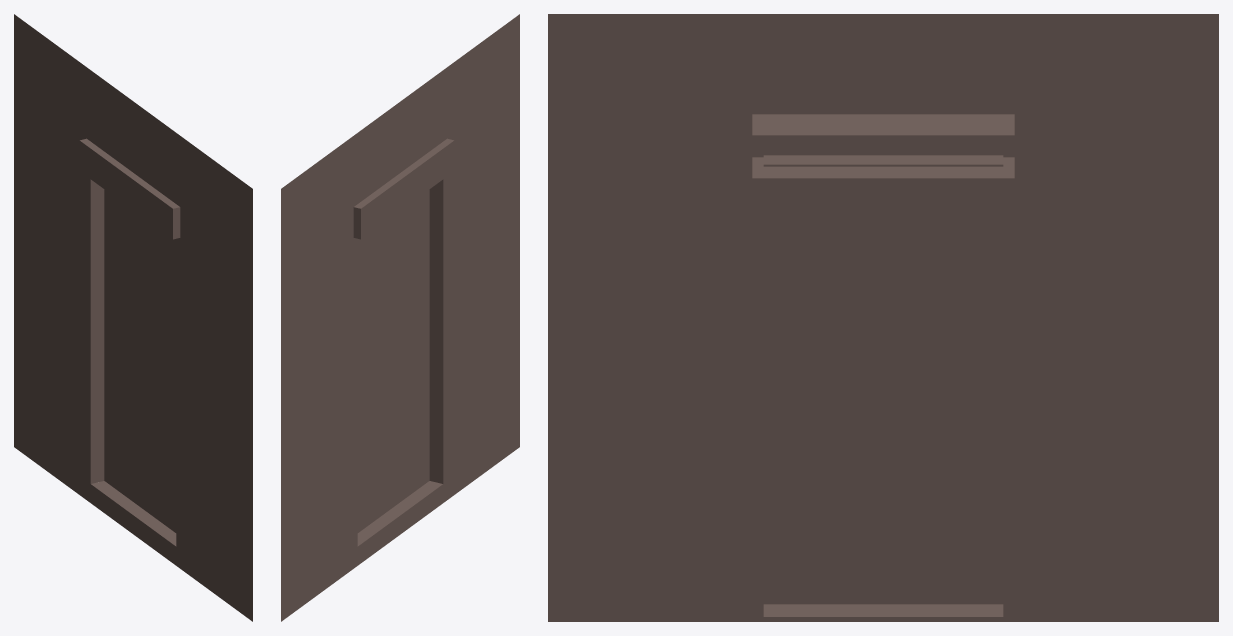
File: Building_door_01.fbx
The picture shows the model from 3 angles, left to right: view 1: azimuth 30°, elevation 25°; view 2: azimuth 150°, elevation 25°; view 3: azimuth 270°, elevation 25°; orthographic projection. The views are drawn at different scales.
Parts seen in each view (by area): view 1: Building_door_01; view 2: Building_door_01; view 3: Building_door_01.
Part boxes in pixels (<box>): Building_door_01: <box>14,14,252,621</box>; Building_door_01: <box>281,14,519,621</box>; Building_door_01: <box>548,14,1218,621</box>.
Bounding box in the file's own units: 0.2823 × 3 × 3.
